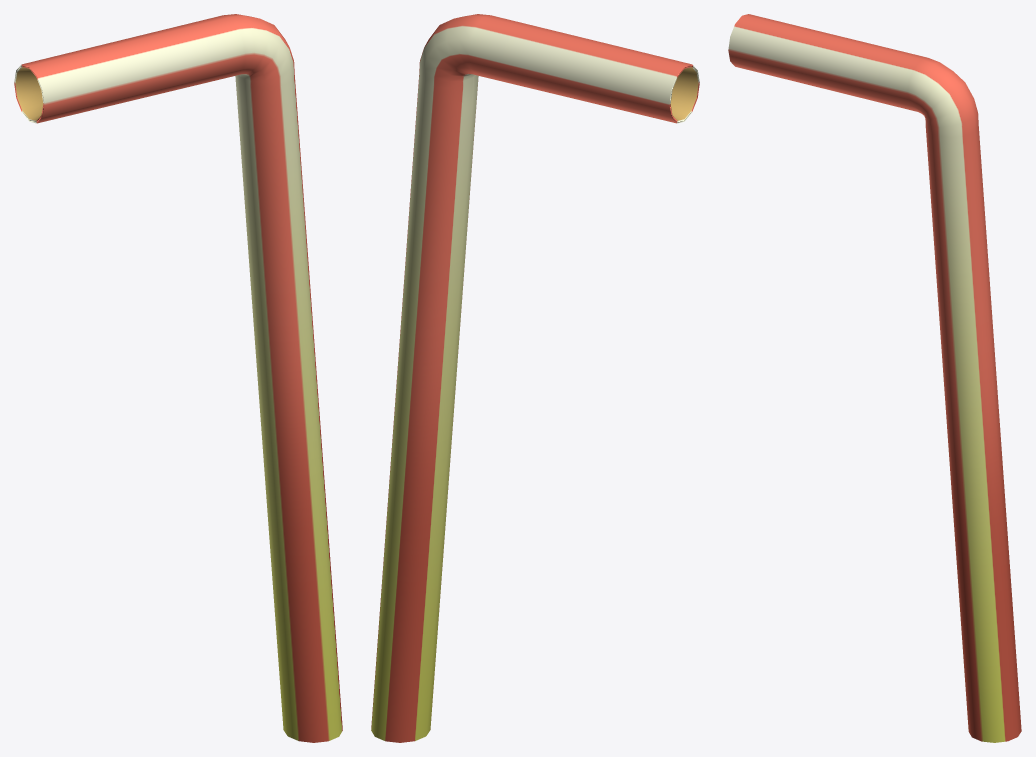
Rendered from strow.fbx.
3 renders of one model, left to right at view 1: azimuth 30°, elevation 25°; view 2: azimuth 150°, elevation 25°; view 3: azimuth 330°, elevation 25°, orthographic. The views are drawn at different scales.
Parts seen in each view (by area): view 1: strow; view 2: strow; view 3: strow.
Boxes of the visible parts, x1=… form: strow: x1=14, y1=14, x2=342, y2=742; strow: x1=371, y1=14, x2=699, y2=742; strow: x1=728, y1=14, x2=1021, y2=742.
Bounding box in the file's own units: 683 × 1547 × 117.
